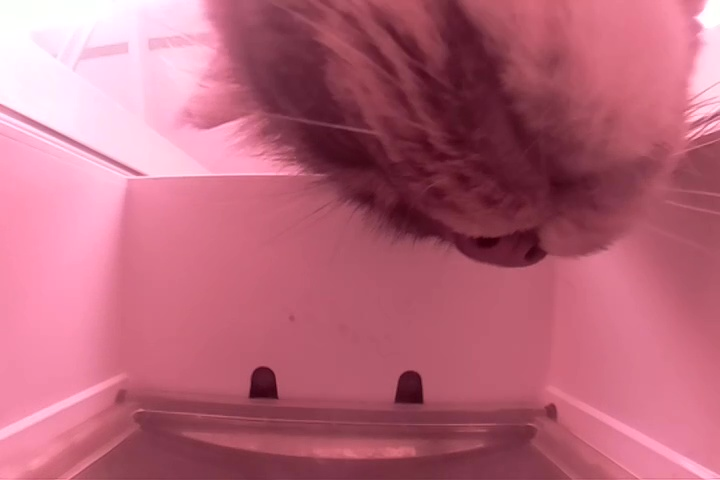Snout: (422, 11, 670, 271)
